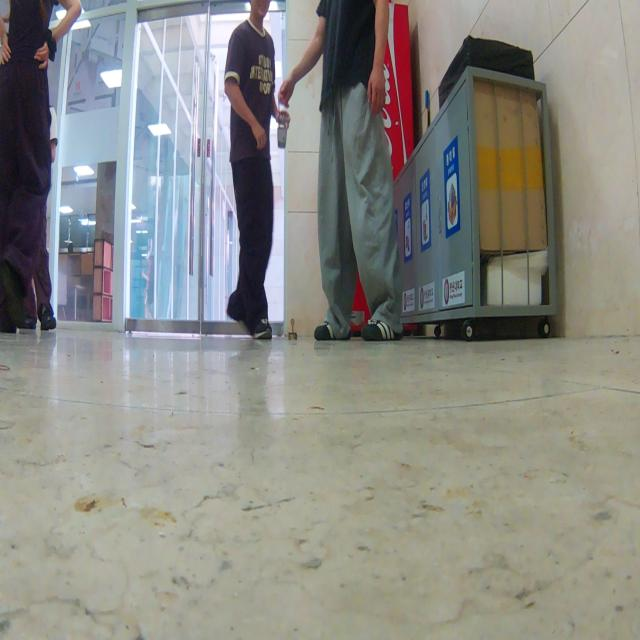target: (288, 316, 298, 342)
